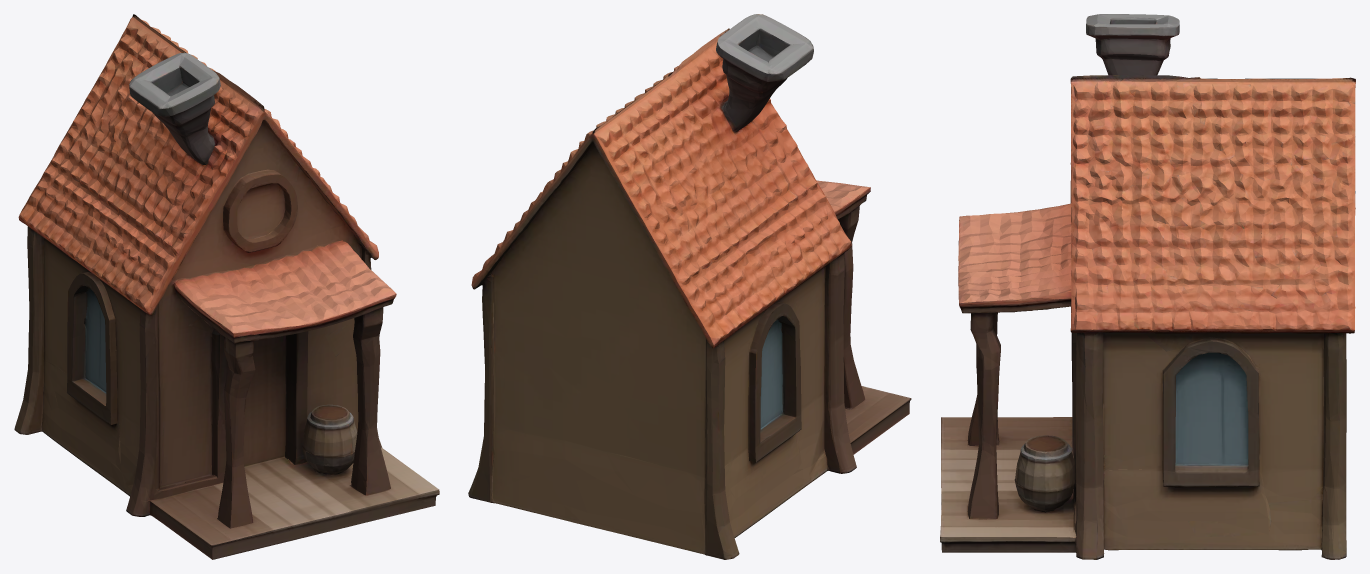
The model's file is voxhammer_t01.glb.
The picture shows the model from 3 angles, left to right: view 1: azimuth 30°, elevation 25°; view 2: azimuth 150°, elevation 25°; view 3: azimuth 270°, elevation 25°; orthographic projection. The views are drawn at different scales.
Parts seen in each view (by area): view 1: geometry_0; view 2: geometry_0; view 3: geometry_0.
Boxes of the visible parts, x1,y1,x2,y2 form: geometry_0: (14,14,439,559); geometry_0: (468,14,911,559); geometry_0: (940,14,1355,559).
Size of the model in its own units: 0.7249 by 1.13 by 0.9475.
Materials: 1 (1 with a texture image).
